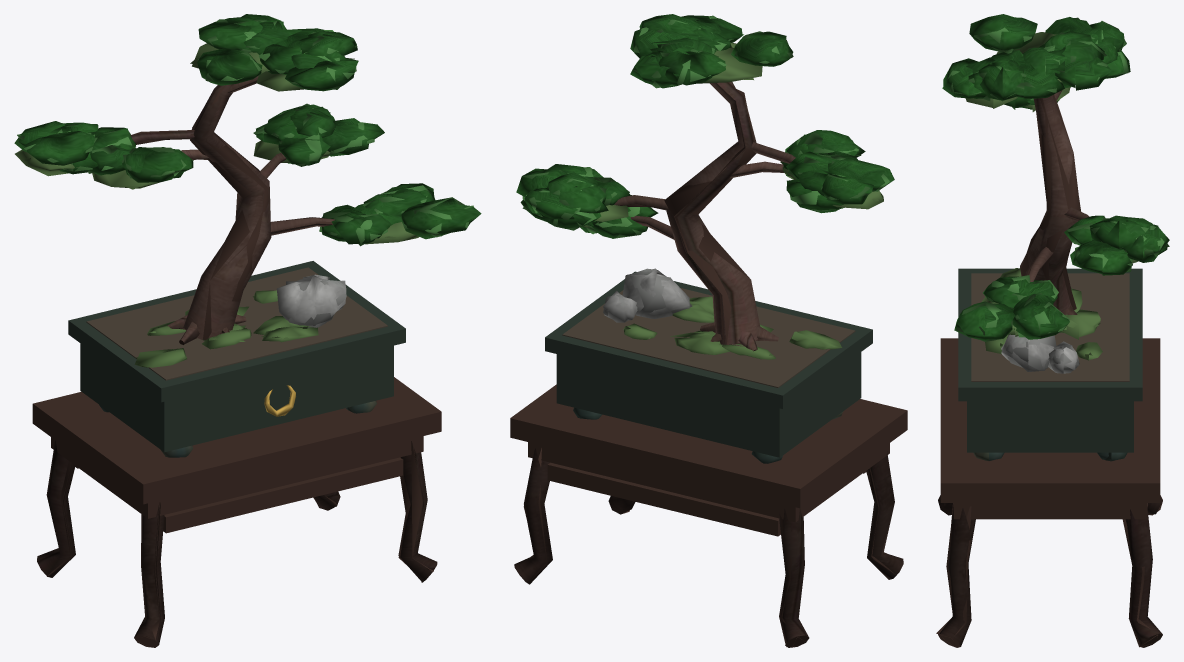
Rendered from prop_bonsai_pine.gltf.
3 views of the same model, side by side, from view 1: azimuth 30°, elevation 25°; view 2: azimuth 150°, elevation 25°; view 3: azimuth 270°, elevation 25° (orthographic). The views are drawn at different scales.
Visible parts, largest first — view 1: Far, Near; view 2: Far, Near; view 3: Far, Near.
Boxes of the visible parts, <box> form: Far: <box>17,19,473,647</box>; Near: <box>14,14,481,644</box>; Far: <box>510,15,907,647</box>; Near: <box>514,14,903,646</box>; Far: <box>936,17,1169,647</box>; Near: <box>938,14,1169,646</box>.
Size of the model in its own units: 1.06 by 1.37 by 0.5322.
Materials: 9 (5 with a texture image).
